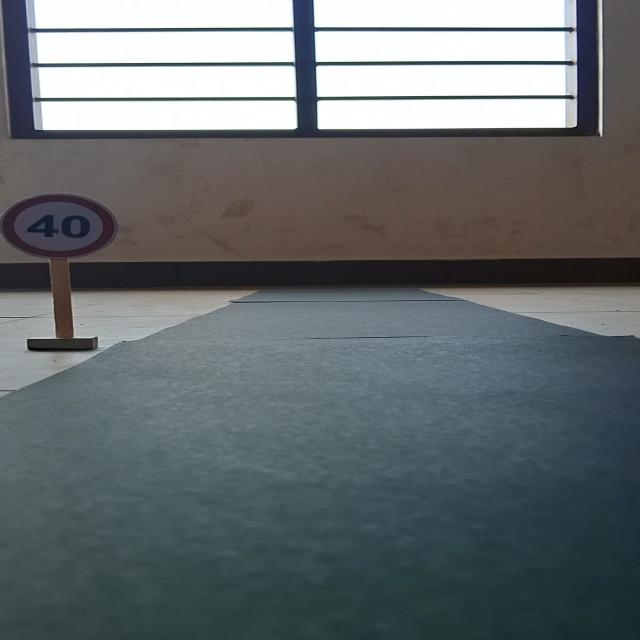Speed40: (0, 190, 133, 260)
